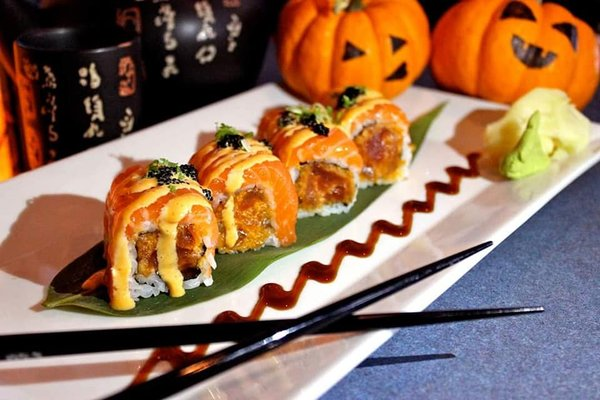soup: (103, 159, 221, 310)
